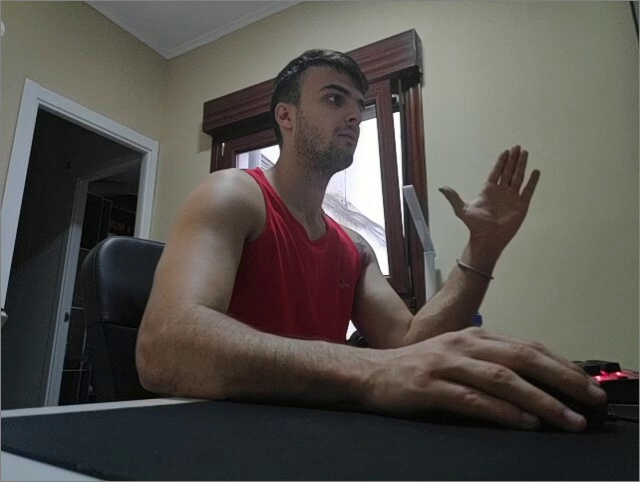Palm: (433, 143, 541, 239)
